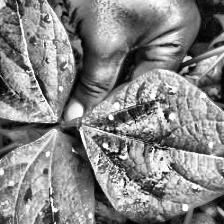Bean Rust: (81, 69, 224, 224), (0, 0, 74, 127), (0, 129, 94, 224), (199, 51, 224, 138)
